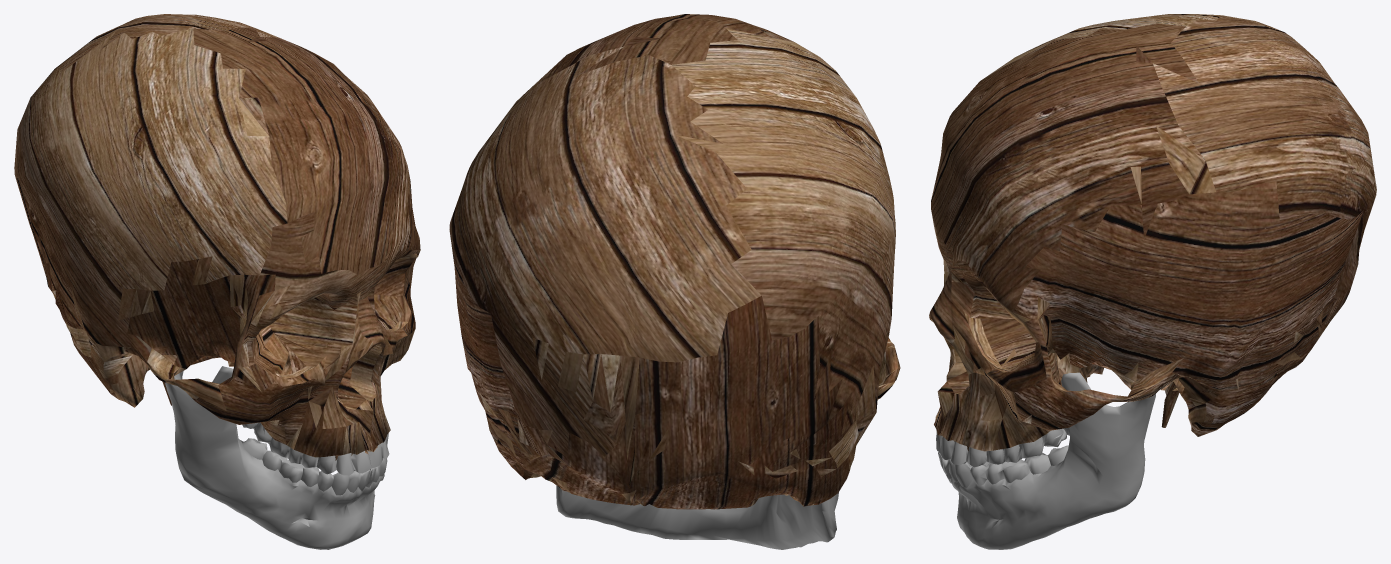
The model's file is skull3.obj.
3 views of the same model, side by side, from view 1: azimuth 30°, elevation 25°; view 2: azimuth 150°, elevation 25°; view 3: azimuth 270°, elevation 25° (orthographic). The views are drawn at different scales.
Parts seen in each view (by area): view 1: skull, jaw, lteeth, uteeth; view 2: skull, jaw; view 3: skull, jaw, lteeth, uteeth.
Part boxes in pixels (<box>): skull: <box>14,14,420,460</box>; jaw: <box>165,366,384,549</box>; lteeth: <box>242,438,387,495</box>; uteeth: <box>242,422,389,475</box>; skull: <box>449,14,900,509</box>; jaw: <box>556,485,838,549</box>; skull: <box>929,14,1376,451</box>; jaw: <box>943,372,1156,549</box>; lteeth: <box>938,445,1068,487</box>; uteeth: <box>936,427,1069,467</box>.
Bounding box in the file's own units: 5.23 × 7.32 × 6.14.
